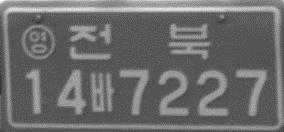1: (21, 67, 52, 114)
2: (196, 68, 228, 117), (157, 69, 189, 116)
4: (56, 68, 86, 114)
7: (235, 68, 267, 116), (118, 67, 149, 116)
바: (89, 72, 115, 112)
영: (20, 24, 56, 60)
전북_D: (66, 23, 211, 62)
